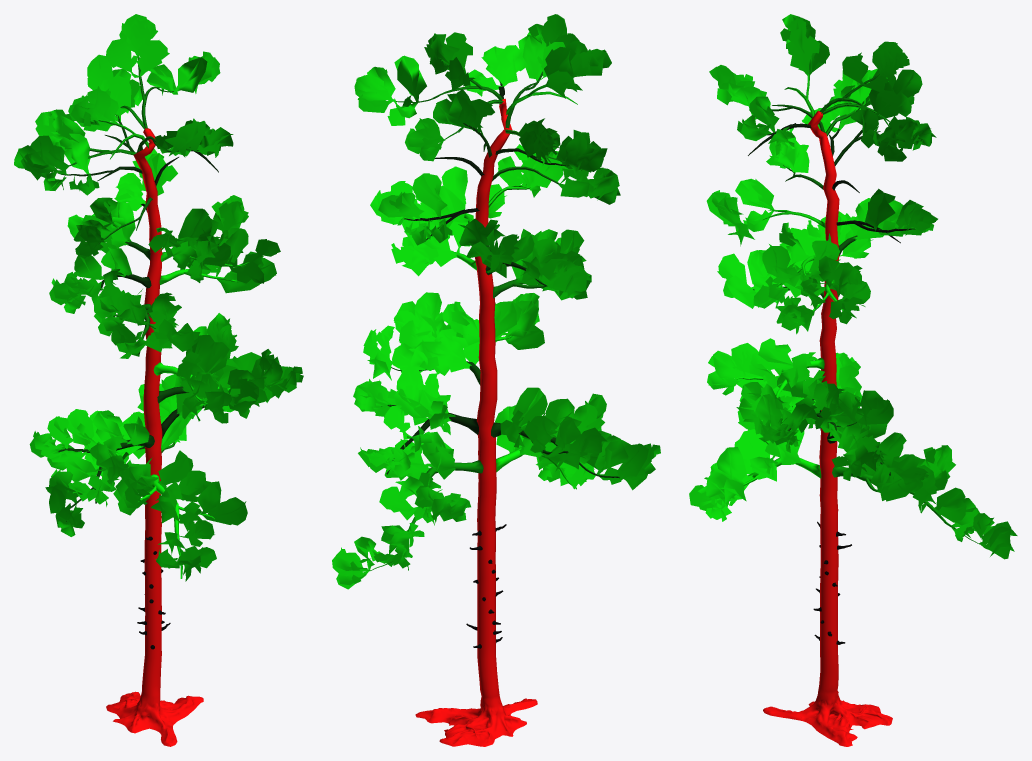
File: Pine_002_XXL.FBX
3 renders of one model, left to right at view 1: azimuth 30°, elevation 25°; view 2: azimuth 150°, elevation 25°; view 3: azimuth 270°, elevation 25°, orthographic. The views are drawn at different scales.
Parts seen in each view (by area): view 1: XXL_LOD0; view 2: XXL_LOD0; view 3: XXL_LOD0.
Boxes of the visible parts, left/top/right/bottom form: XXL_LOD0: left=14, top=14, right=303, bottom=746; XXL_LOD0: left=332, top=14, right=660, bottom=746; XXL_LOD0: left=689, top=14, right=1017, bottom=746.
Size of what is drawn, in the model's own units: 1195 by 3136 by 1367.
